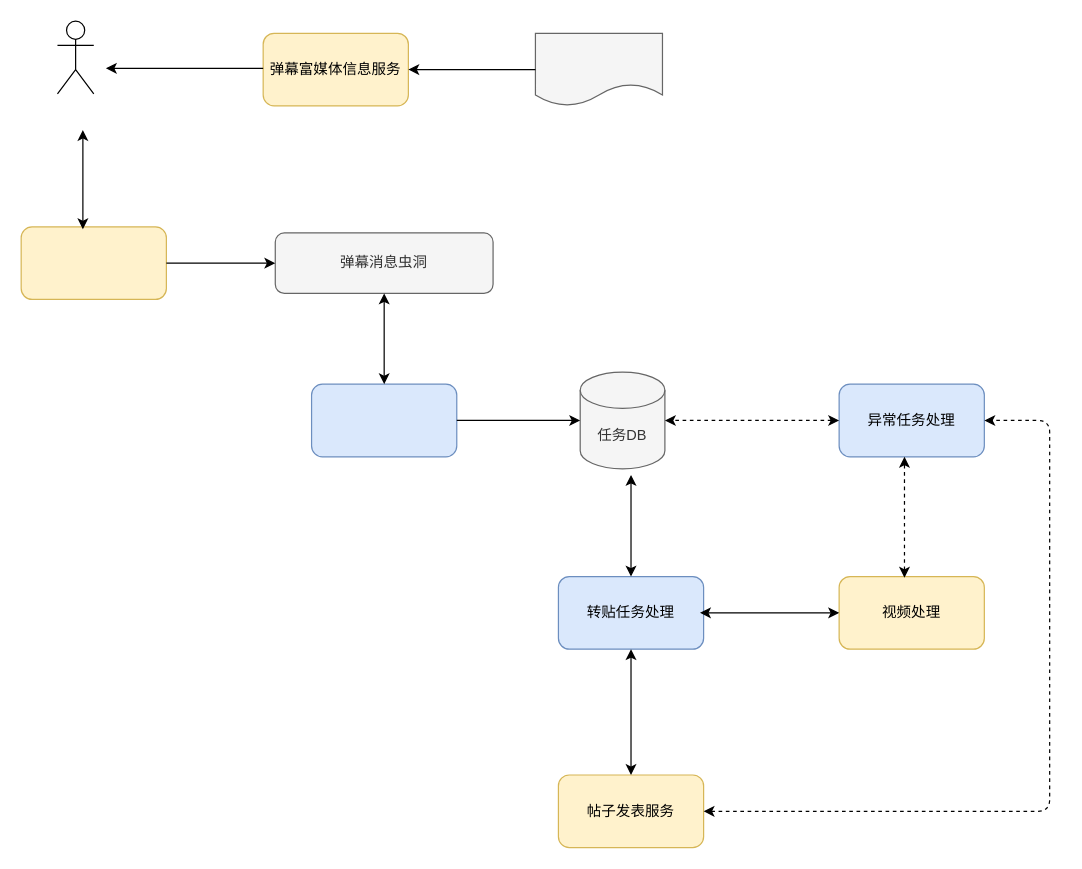
The diagram is 1082 pixels wide and 869 high, and some of its shapes have lost their labels. Each missing label, with the box of its shape:
wuji配置: (534, 32, 662, 106)
弹幕发表服务: (20, 226, 166, 299)
弹幕转贴 消费服务: (310, 383, 457, 457)
终端用户: (56, 20, 94, 94)
